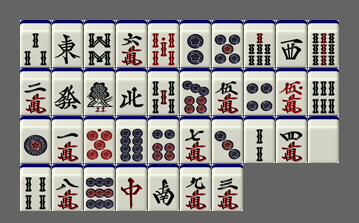0m: (276, 68, 307, 115)
0p: (84, 116, 115, 163)
0s: (148, 20, 179, 67)
1m: (52, 116, 83, 163)
1p: (20, 116, 51, 163)
1s: (84, 68, 115, 115)
1z: (52, 20, 83, 67)
2m: (20, 68, 51, 115)
2p: (180, 20, 211, 67)
2s: (244, 116, 275, 163)
2z: (148, 164, 179, 211)
3m: (212, 164, 243, 211)
3p: (212, 116, 243, 163)
3s: (20, 20, 51, 67)
3z: (276, 20, 307, 67)
4m: (276, 116, 307, 163)
4p: (244, 68, 275, 115)
4s: (20, 164, 51, 211)
4z: (116, 68, 147, 115)
5m: (212, 68, 243, 115)
5p: (212, 20, 243, 67)
5s: (148, 68, 179, 115)
5z: (308, 116, 339, 163)
6m: (116, 20, 147, 67)
6p: (148, 116, 179, 163)
6s: (308, 68, 339, 115)
6z: (52, 68, 83, 115)
7m: (180, 116, 211, 163)
7p: (180, 68, 211, 115)
7s: (244, 20, 275, 67)
7z: (116, 164, 147, 211)
8m: (52, 164, 83, 211)
8p: (116, 116, 147, 163)
8s: (84, 20, 115, 67)
9m: (180, 164, 211, 211)
9p: (84, 164, 115, 211)
9s: (308, 20, 339, 67)
